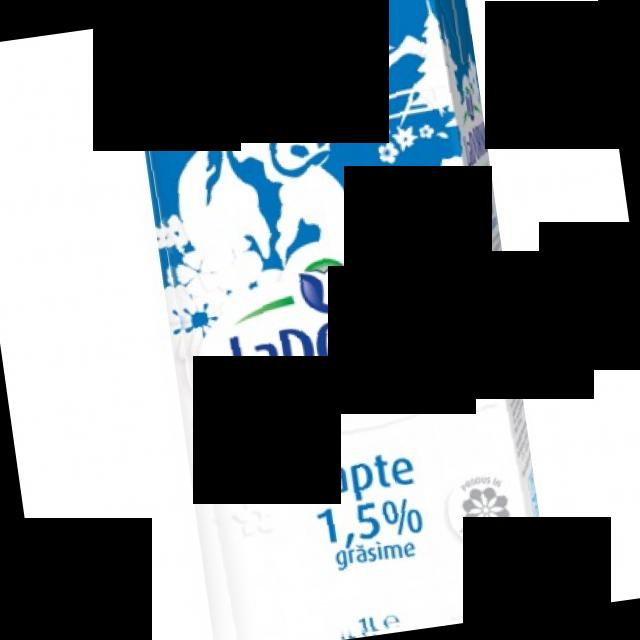milk: (126, 0, 553, 640)
